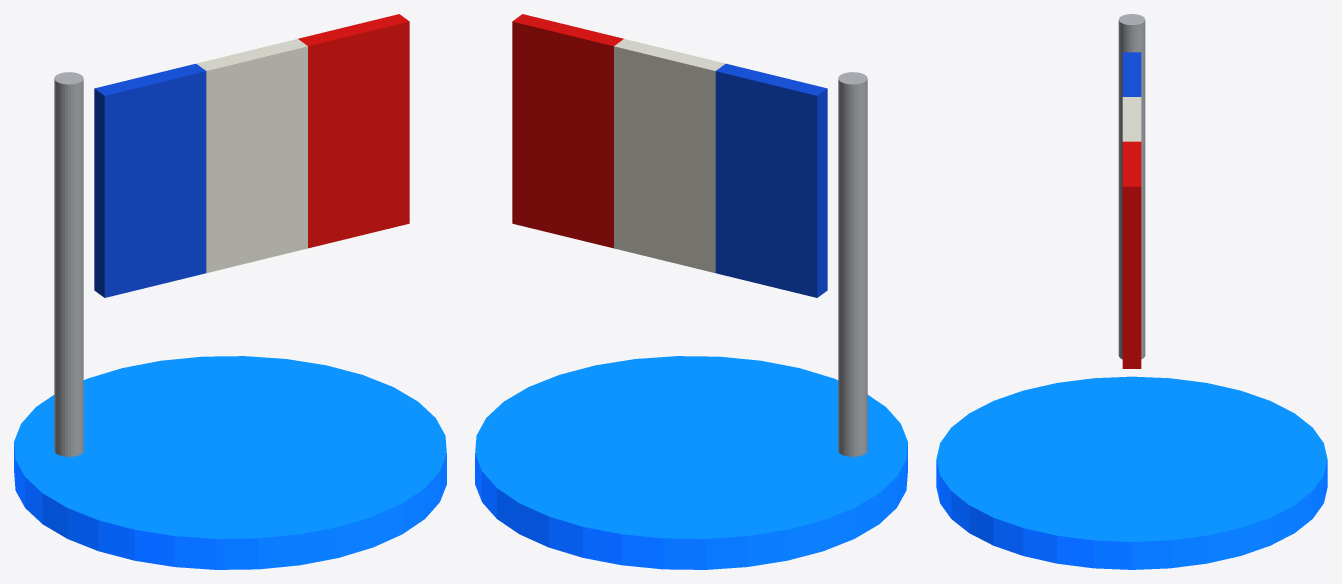
The model's file is french_french_flag.dae.
3 renders of one model, left to right at view 1: azimuth 30°, elevation 25°; view 2: azimuth 150°, elevation 25°; view 3: azimuth 270°, elevation 25°, orthographic. The views are drawn at different scales.
Visible parts, largest first — view 1: 10_02_Popular_French_French_Flag_ROOT_base, 10_02_Popular_French_French_Flag_part_02, 10_02_Popular_French_French_Flag_part_04, 10_02_Popular_French_French_Flag_part_03, 10_02_Popular_French_French_Flag_part_01; view 2: 10_02_Popular_French_French_Flag_ROOT_base, 10_02_Popular_French_French_Flag_part_02, 10_02_Popular_French_French_Flag_part_04, 10_02_Popular_French_French_Flag_part_03, 10_02_Popular_French_French_Flag_part_01; view 3: 10_02_Popular_French_French_Flag_ROOT_base, 10_02_Popular_French_French_Flag_part_04, 10_02_Popular_French_French_Flag_part_01, 10_02_Popular_French_French_Flag_part_02, 10_02_Popular_French_French_Flag_part_03.
Part boxes in pixels (bbox=[...]): 10_02_Popular_French_French_Flag_ROOT_base: bbox=[14, 356, 446, 569]; 10_02_Popular_French_French_Flag_part_02: bbox=[94, 63, 206, 297]; 10_02_Popular_French_French_Flag_part_04: bbox=[298, 14, 409, 248]; 10_02_Popular_French_French_Flag_part_03: bbox=[196, 39, 307, 272]; 10_02_Popular_French_French_Flag_part_01: bbox=[54, 72, 83, 456]; 10_02_Popular_French_French_Flag_ROOT_base: bbox=[475, 356, 907, 569]; 10_02_Popular_French_French_Flag_part_02: bbox=[715, 63, 827, 297]; 10_02_Popular_French_French_Flag_part_04: bbox=[512, 14, 623, 248]; 10_02_Popular_French_French_Flag_part_03: bbox=[614, 39, 725, 272]; 10_02_Popular_French_French_Flag_part_01: bbox=[838, 72, 867, 456]; 10_02_Popular_French_French_Flag_ROOT_base: bbox=[936, 376, 1327, 569]; 10_02_Popular_French_French_Flag_part_04: bbox=[1122, 141, 1141, 368]; 10_02_Popular_French_French_Flag_part_01: bbox=[1118, 14, 1145, 359]; 10_02_Popular_French_French_Flag_part_02: bbox=[1122, 52, 1141, 96]; 10_02_Popular_French_French_Flag_part_03: bbox=[1122, 97, 1141, 141].
Bounding box in the file's own units: 0.76 × 0.85 × 0.76.
